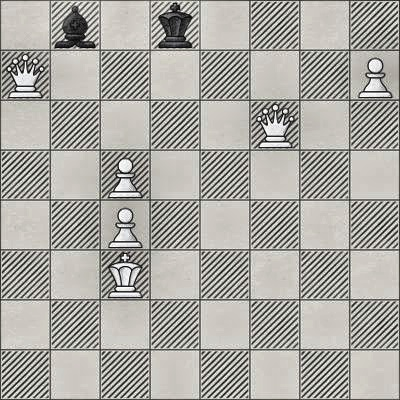black-bishop: (50, 0, 100, 50)
black-king: (150, 0, 200, 50)
white-king: (100, 250, 150, 300)
white-pawn: (350, 50, 400, 100), (100, 150, 150, 200), (100, 200, 150, 250)
white-queen: (0, 50, 50, 100), (250, 100, 300, 150)
